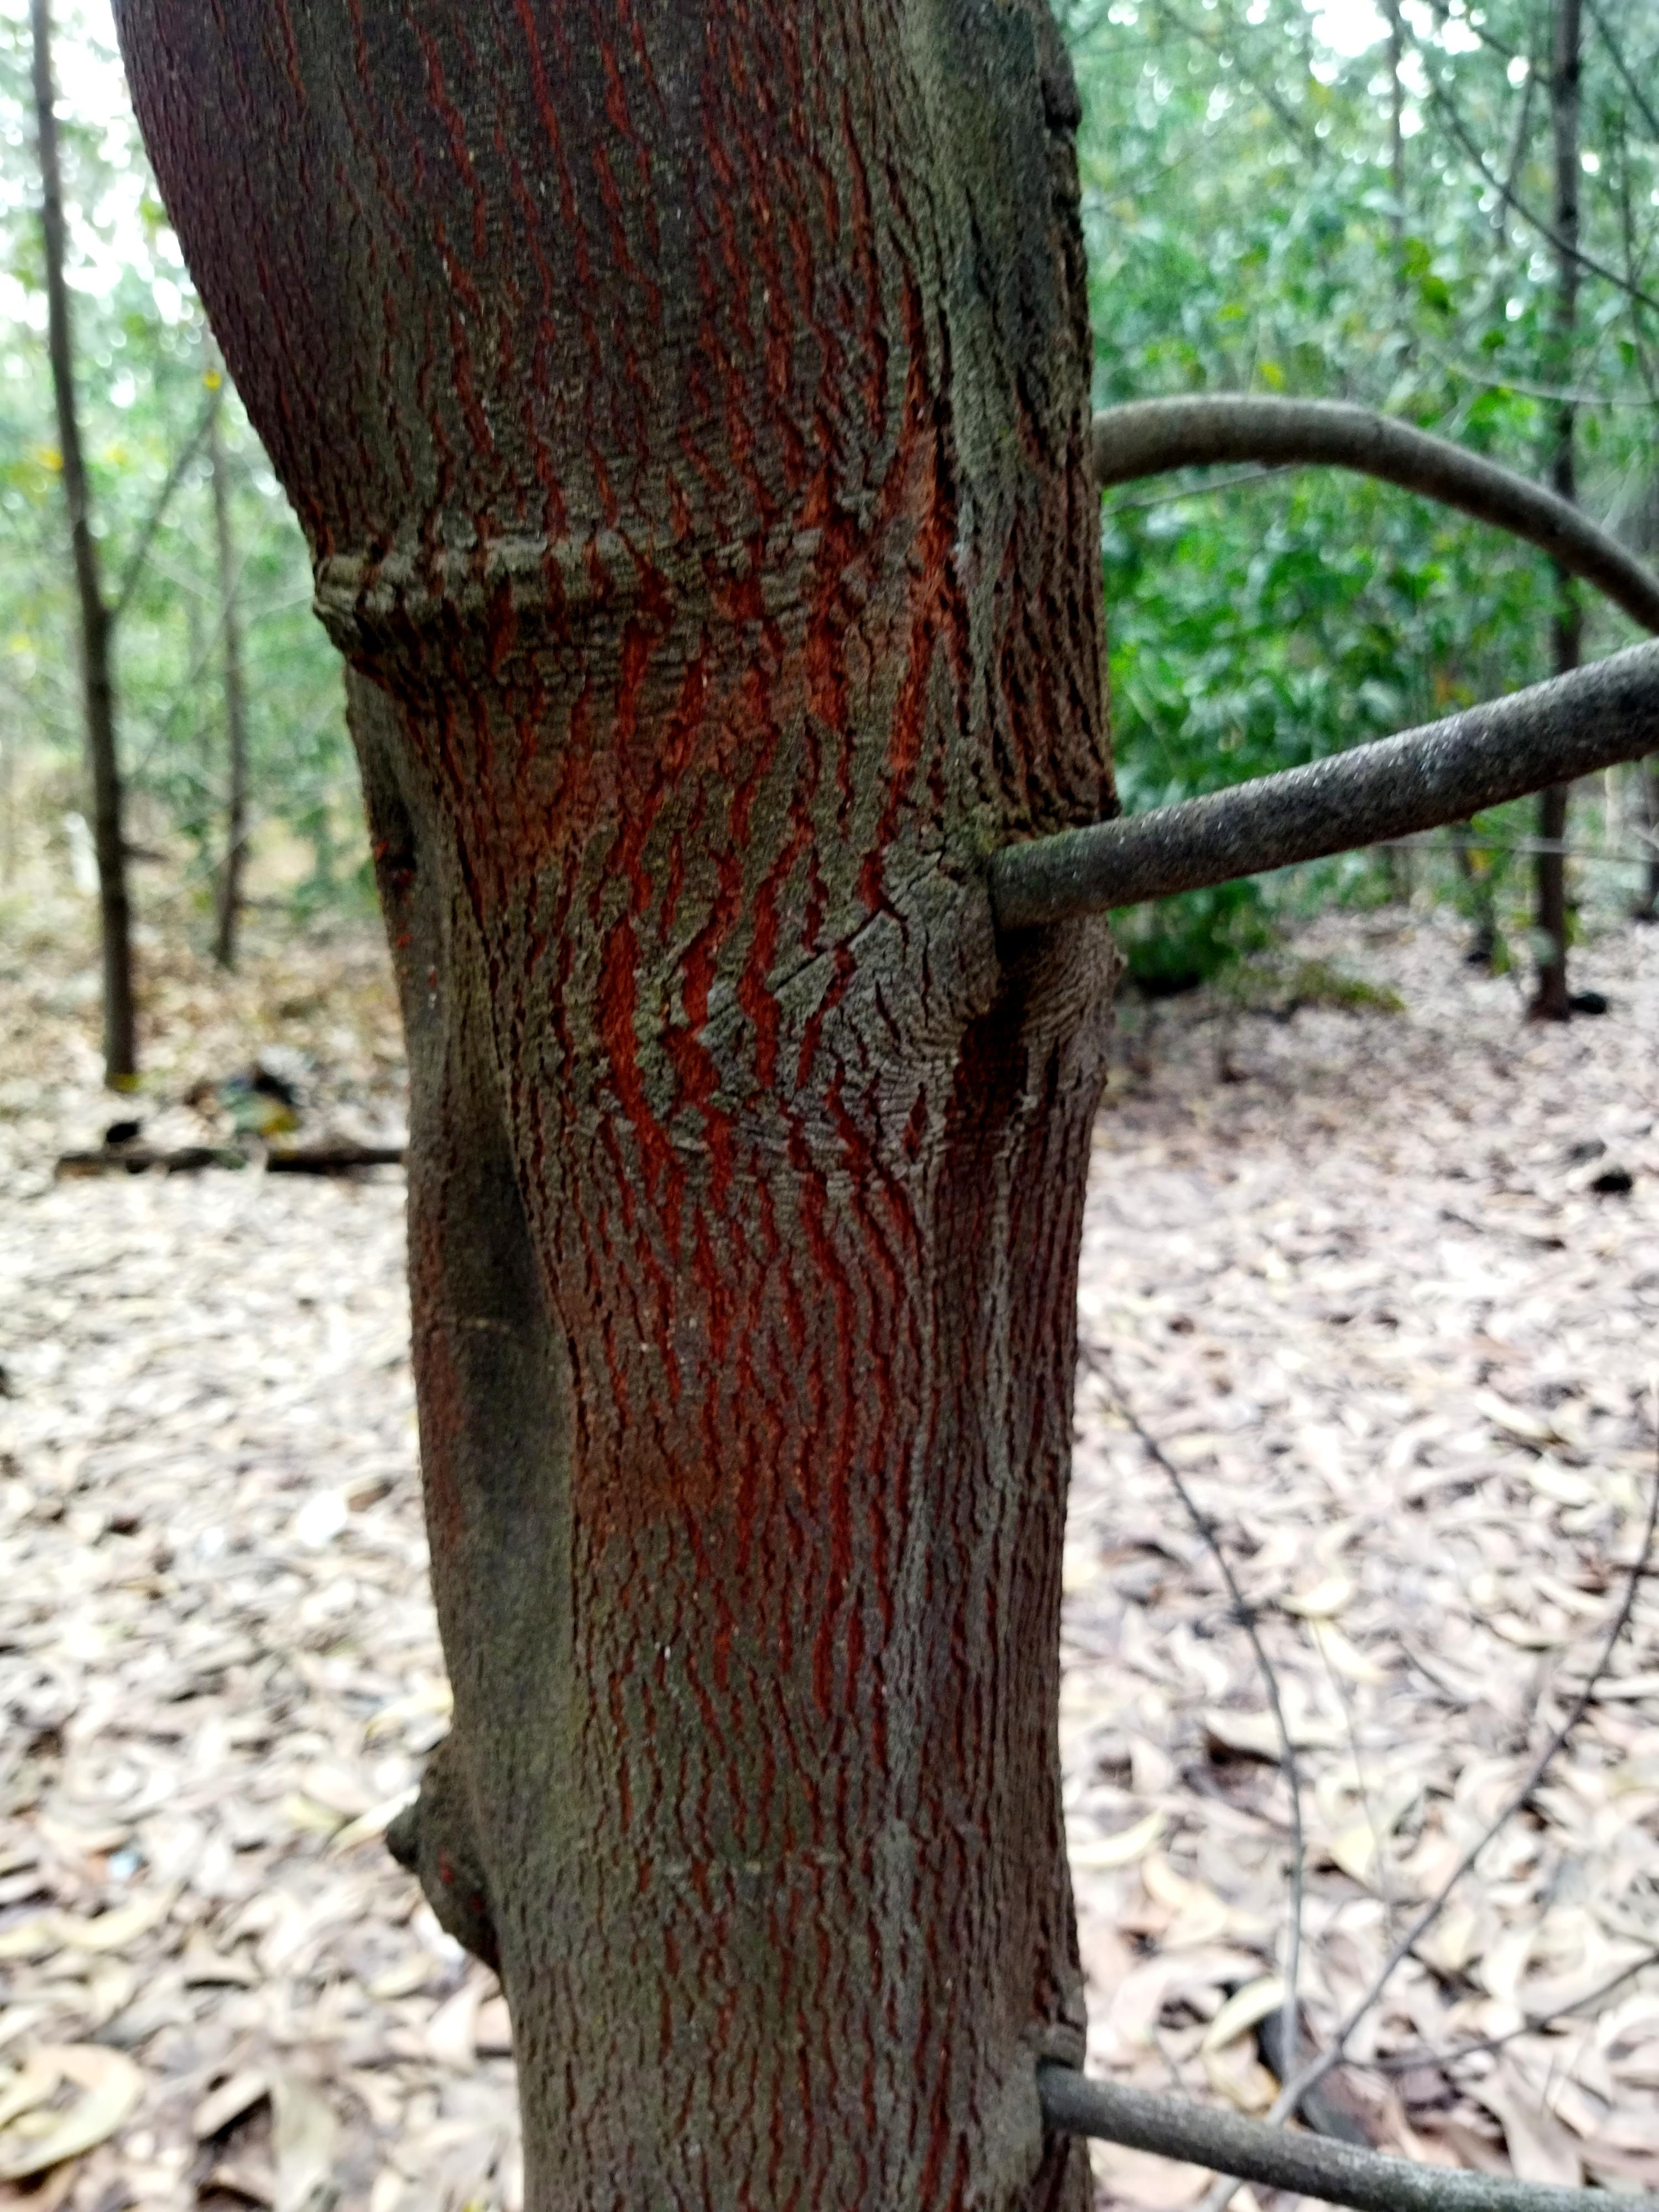Stem Deformation: (350, 190, 1032, 1881)
